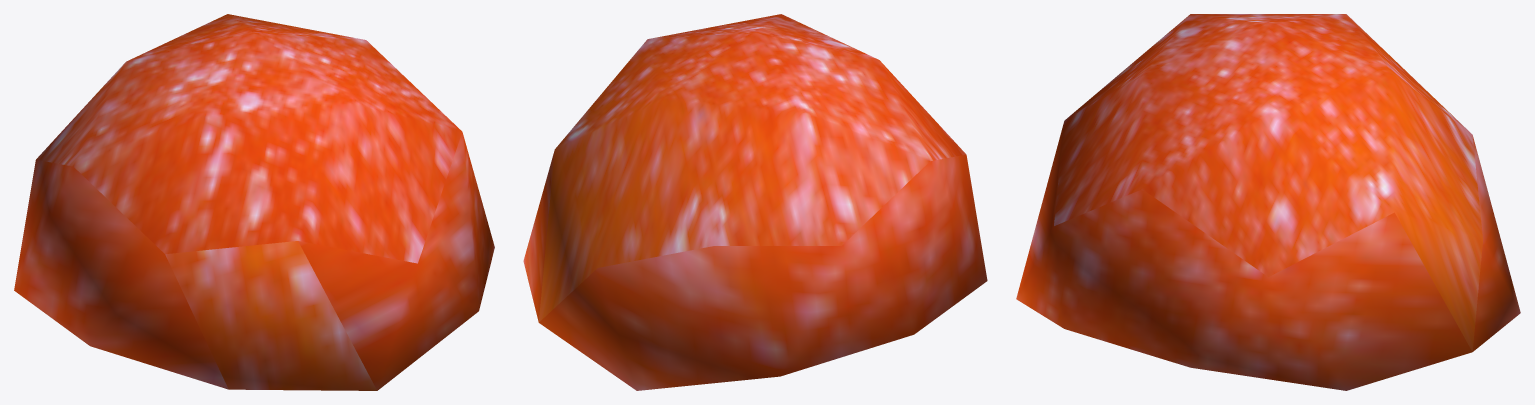
File: CandyGumDropOrange.fbx
3 renders of one model, left to right at view 1: azimuth 30°, elevation 25°; view 2: azimuth 150°, elevation 25°; view 3: azimuth 270°, elevation 25°, orthographic. The views are drawn at different scales.
Visible parts, largest first — view 1: Icosphere.003; view 2: Icosphere.003; view 3: Icosphere.003.
Boxes of the visible parts, x1,y1,x2,y2 form: Icosphere.003: [14, 14, 494, 390]; Icosphere.003: [523, 14, 987, 390]; Icosphere.003: [1016, 14, 1520, 390].
Size of the model in its own units: 190 by 131 by 200.
